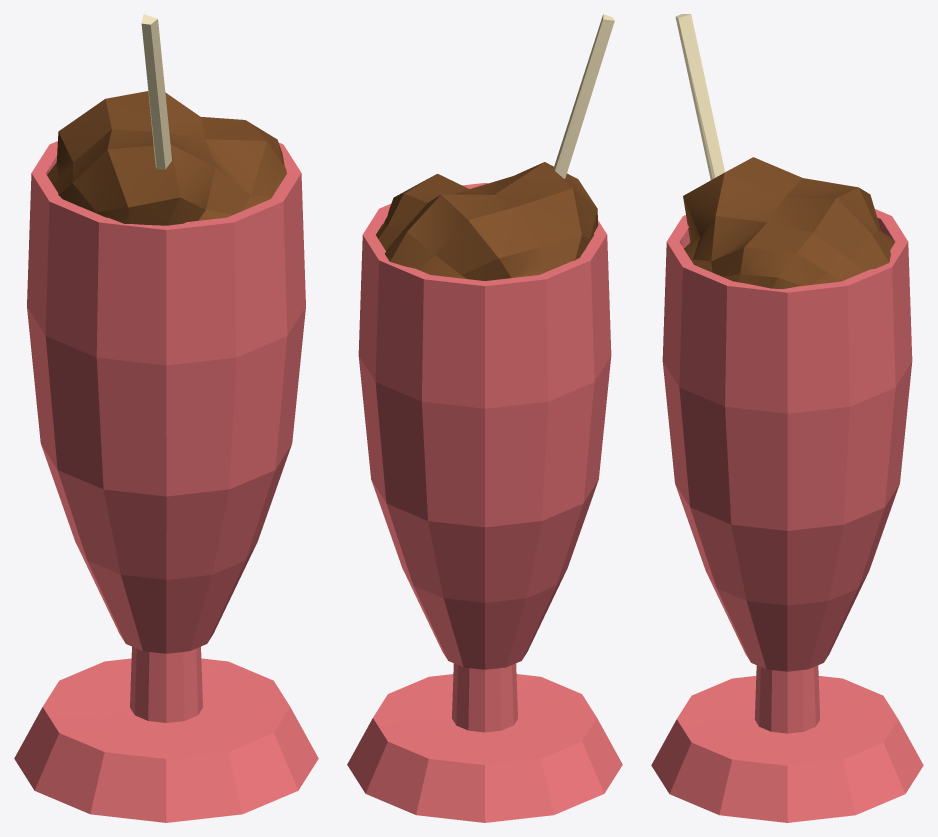
File: milkshake.obj
3 views of the same model, side by side, from view 1: azimuth 30°, elevation 25°; view 2: azimuth 150°, elevation 25°; view 3: azimuth 270°, elevation 25° (orthographic). The views are drawn at different scales.
Parts seen in each view (by area): view 1: Circle_Mesh; view 2: Circle_Mesh; view 3: Circle_Mesh.
Part boxes in pixels (x1=…): Circle_Mesh: x1=14, y1=14, x2=318, y2=822; Circle_Mesh: x1=347, y1=14, x2=622, y2=822; Circle_Mesh: x1=651, y1=14, x2=923, y2=822.
Size of the model in its own units: 0.1019 by 0.2961 by 0.1019.
